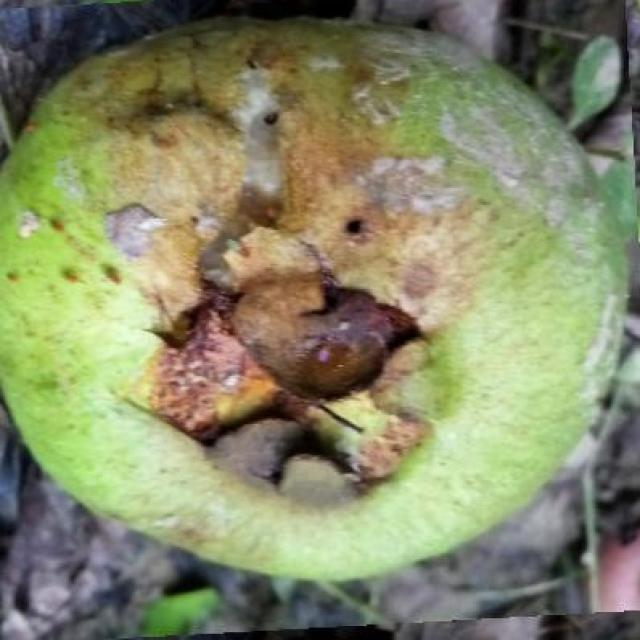Styler and Root: (3, 20, 629, 579)
